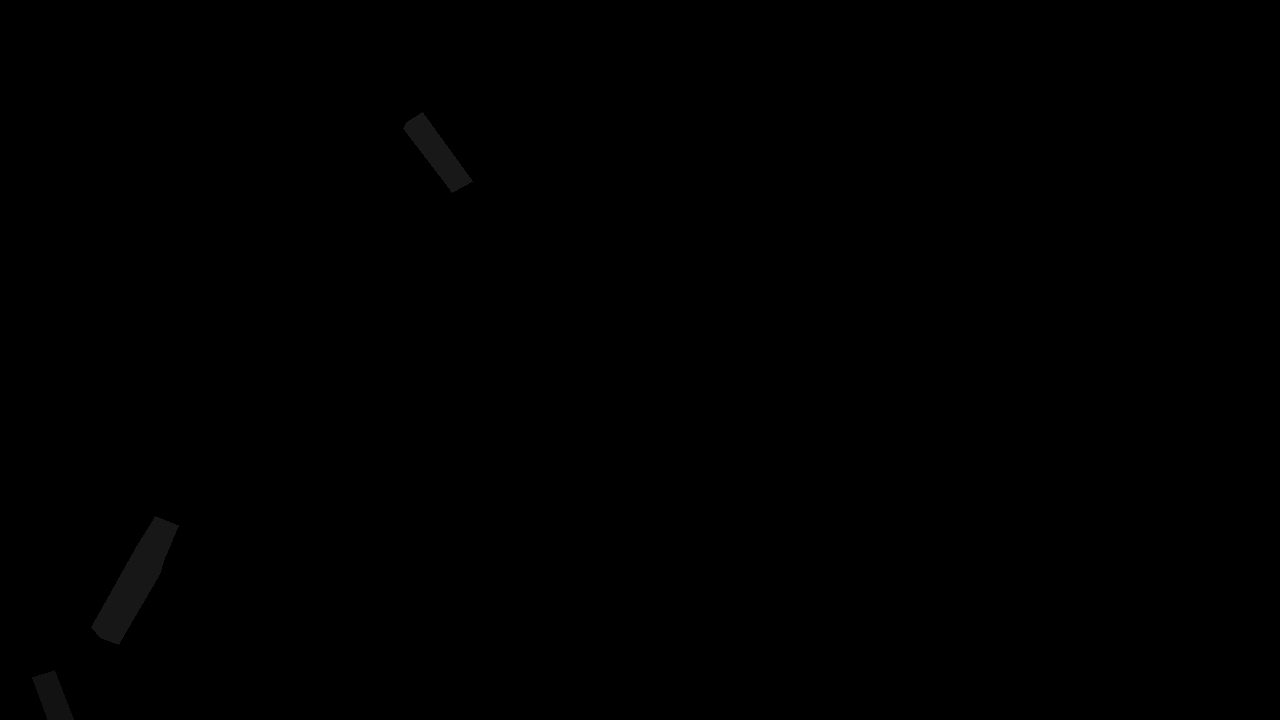Eraser_big: (32, 670, 73, 719)
Glue_pen: (91, 516, 178, 644)
Glue_stick: (403, 112, 472, 192)
